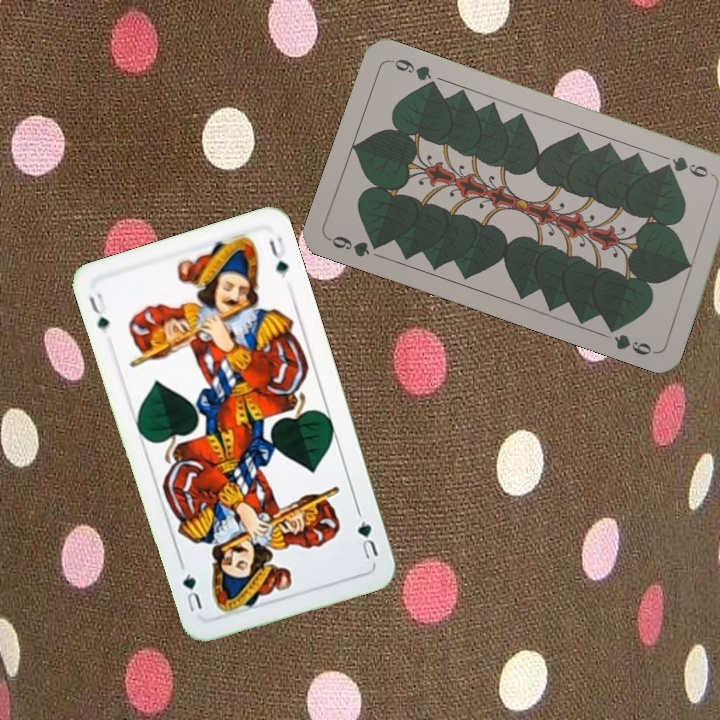G9: (325, 232, 386, 260), (658, 152, 718, 180)
GU: (353, 507, 381, 563), (85, 289, 112, 332)
